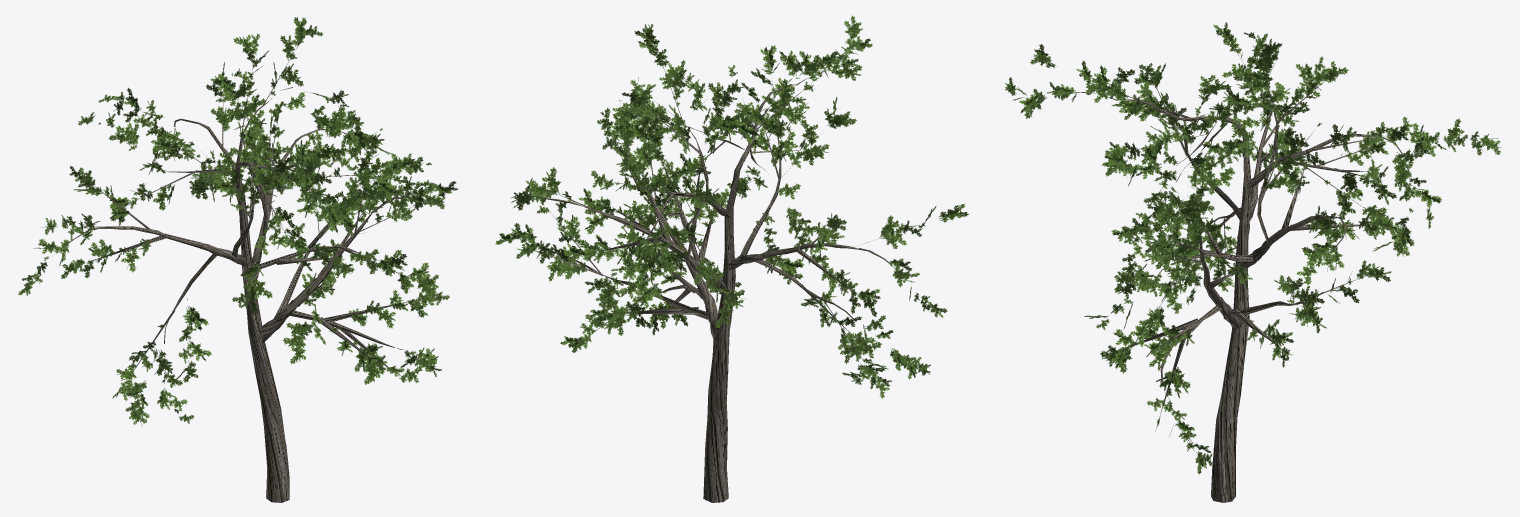
Rendered from roble_joven.glb.
3 views of the same model, side by side, from view 1: azimuth 30°, elevation 25°; view 2: azimuth 150°, elevation 25°; view 3: azimuth 270°, elevation 25° (orthographic). The views are drawn at different scales.
Parts seen in each view (by area): view 1: roble_joven_hojas, roble_joven_ramas; view 2: roble_joven_hojas, roble_joven_ramas; view 3: roble_joven_hojas, roble_joven_ramas.
Boxes of the visible parts, x1,y1,x2,y2 form: roble_joven_hojas: (18, 17, 458, 426); roble_joven_ramas: (55, 48, 426, 502); roble_joven_hojas: (495, 15, 968, 398); roble_joven_ramas: (529, 67, 895, 502); roble_joven_hojas: (1005, 22, 1500, 474); roble_joven_ramas: (1079, 58, 1409, 502).
Size of the model in its own units: 3.9 by 4.16 by 3.92.
Materials: 2 (2 with a texture image).
